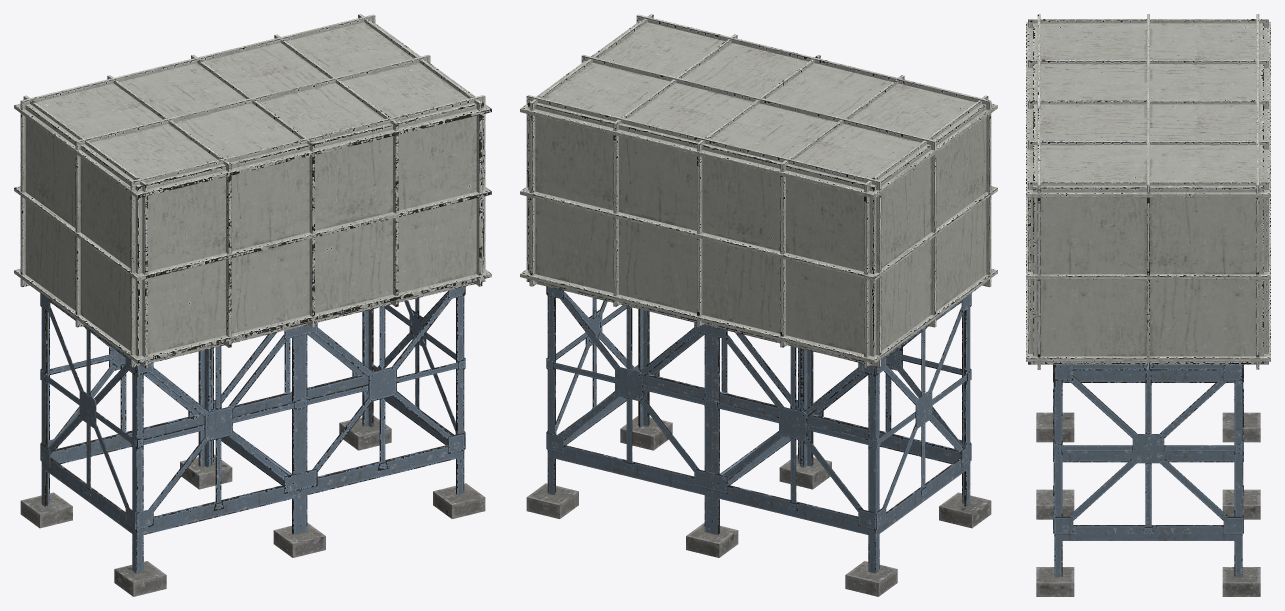
File: jctRoofTankB.fbx
3 views of the same model, side by side, from view 1: azimuth 30°, elevation 25°; view 2: azimuth 150°, elevation 25°; view 3: azimuth 270°, elevation 25° (orthographic).
Parts seen in each view (by area): view 1: jctRoofTankB; view 2: jctRoofTankB; view 3: jctRoofTankB.
Boxes of the visible parts, x1,y1,x2,y2 form: jctRoofTankB: (14,14,491,596); jctRoofTankB: (520,14,997,596); jctRoofTankB: (1026,14,1270,596).
Bounding box in the file's own units: 534 × 597 × 322.
